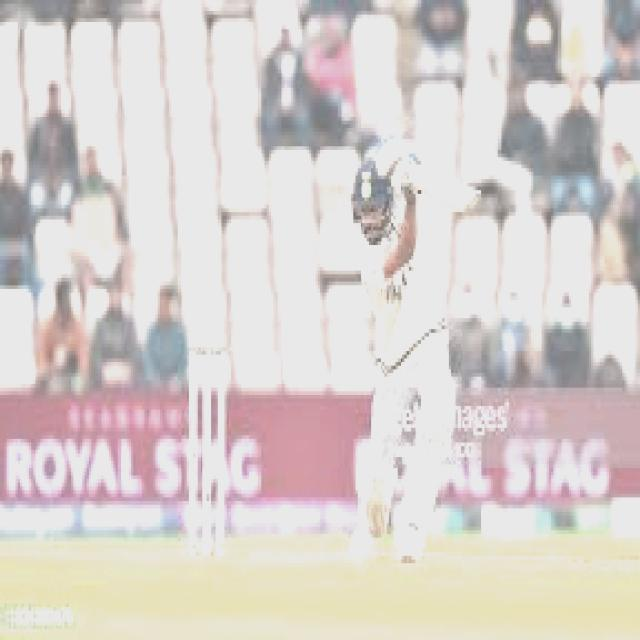bat: (401, 169, 498, 219)
toe: (465, 178, 483, 216)
